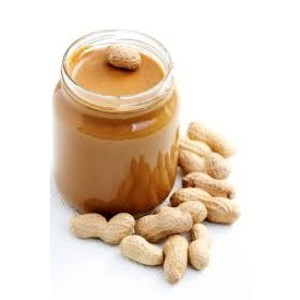peanut butter_brain food: (49, 68, 174, 211)
